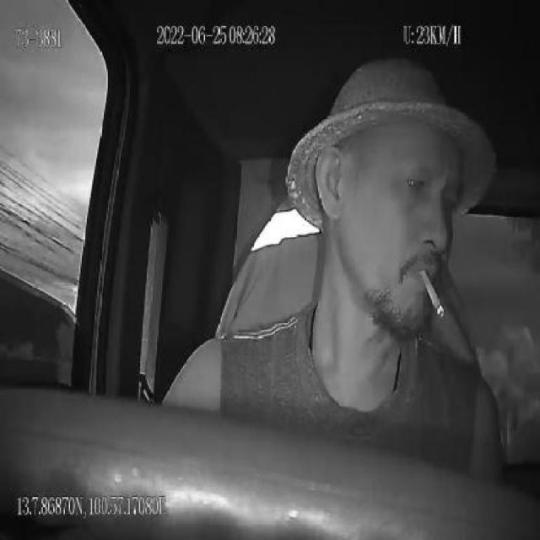smoking: (420, 265, 443, 318)
